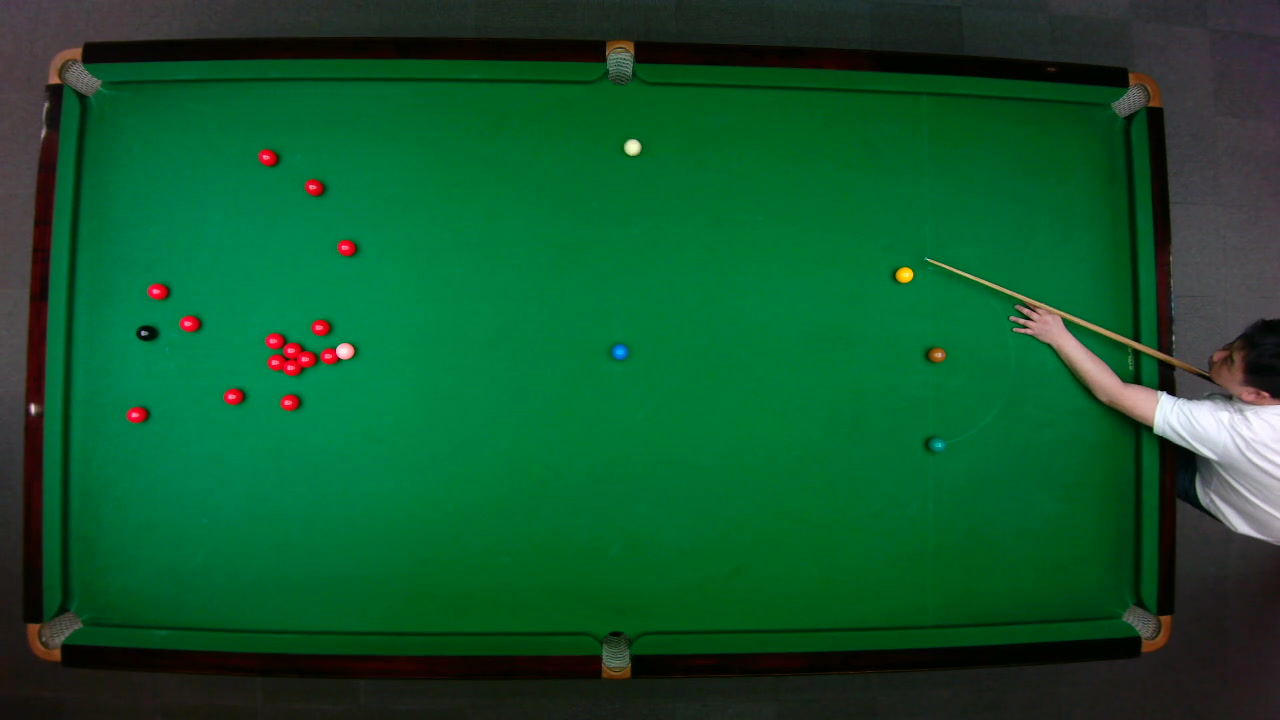bag: (25, 609, 84, 661), (46, 46, 102, 96), (1119, 603, 1172, 652), (1108, 71, 1162, 118), (600, 629, 630, 680), (605, 38, 633, 85)
black: (134, 324, 156, 341)
blue: (610, 342, 628, 360)
brown: (926, 346, 946, 362)
cue: (924, 255, 1229, 386)
green: (926, 435, 946, 452)
pink: (334, 341, 355, 360)
red: (294, 348, 316, 368), (145, 282, 169, 300), (256, 147, 278, 166), (222, 386, 244, 405), (302, 177, 324, 196), (278, 392, 300, 411), (125, 405, 148, 423), (177, 314, 200, 332), (265, 352, 286, 371), (263, 331, 285, 349), (335, 238, 356, 256), (309, 318, 330, 335), (281, 341, 302, 358), (319, 346, 338, 364), (282, 361, 302, 376)
white: (621, 137, 642, 157)
yellow: (893, 265, 914, 283)
zone: (928, 253, 1014, 445)
